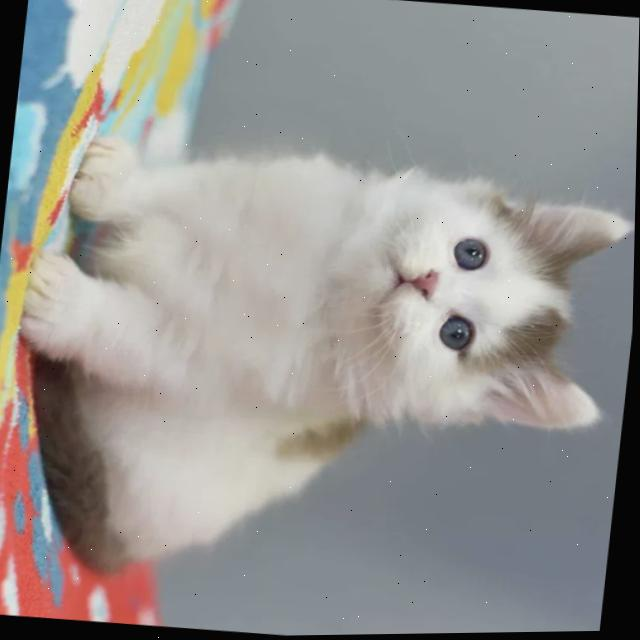Munchkin: (0, 119, 638, 622)
